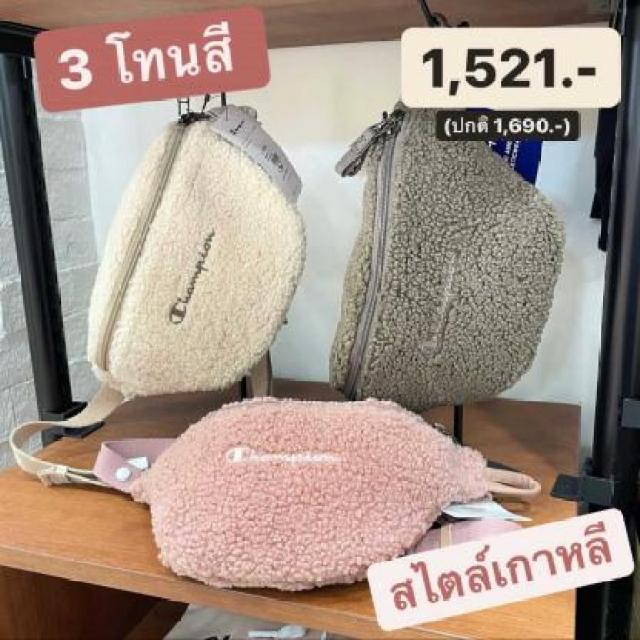Bag: (15, 377, 568, 606), (62, 79, 344, 463), (324, 85, 588, 427)
